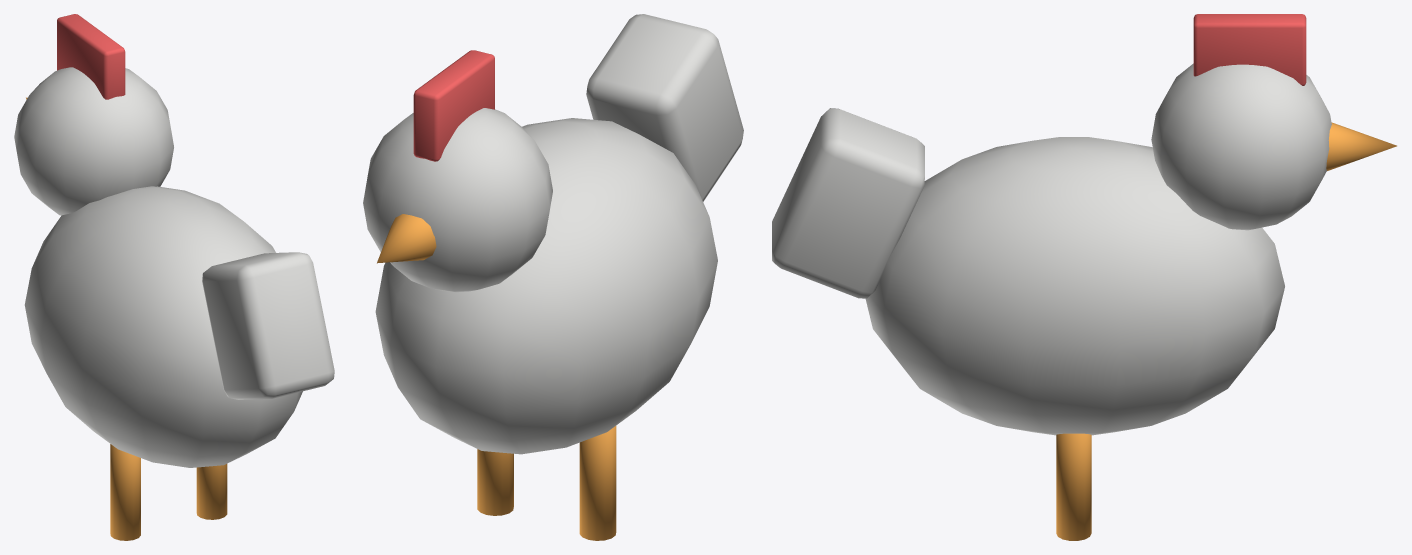
File: chicken.glb
3 renders of one model, left to right at view 1: azimuth 30°, elevation 25°; view 2: azimuth 150°, elevation 25°; view 3: azimuth 270°, elevation 25°, orthographic. The views are drawn at different scales.
Visible parts, largest first — view 1: Body, Head, Tail, Comb, LegL, LegR; view 2: Body, Head, Tail, Comb, LegL, LegR, Beak; view 3: Body, Head, Tail, Comb, LegR, Beak.
Part boxes in pixels (x1,y1,x2,y2): Body: (24,186,302,467); Head: (14,67,173,215); Tail: (202,252,334,399); Comb: (57,14,125,99); LegL: (110,444,140,540); LegR: (196,464,227,519); Body: (375,118,717,454); Head: (363,108,552,292); Tail: (586,14,743,201); Comb: (413,50,494,161); LegL: (579,426,616,540); LegR: (477,449,513,515); Beak: (377,214,436,263); Body: (865,137,1284,435); Head: (1151,63,1331,230); Tail: (772,108,924,298); Comb: (1193,14,1306,85); LegR: (1056,433,1091,540); Beak: (1326,122,1396,170).
Size of the model in its own units: 0.3978 by 0.77 by 0.8885.
